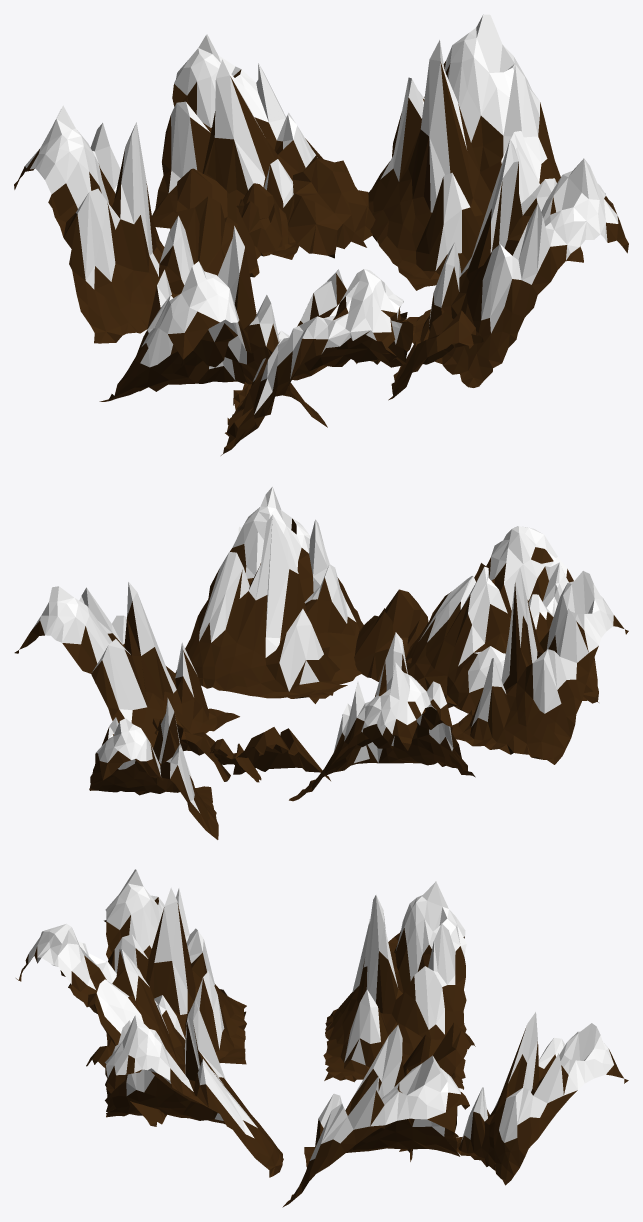
Rendered from Mountains.fbx.
3 renders of one model, top to bottom at view 1: azimuth 30°, elevation 25°; view 2: azimuth 150°, elevation 25°; view 3: azimuth 270°, elevation 25°, orthographic. The views are drawn at different scales.
Parts seen in each view (by area): view 1: Mountains; view 2: Mountains; view 3: Mountains.
Part boxes in pixels (left/top/right/bottom): Mountains: left=14, top=14, right=628, bottom=455; Mountains: left=14, top=487, right=628, bottom=839; Mountains: left=16, top=869, right=628, bottom=1207.
Bounding box in the file's own units: 73541 × 27729 × 88606.
